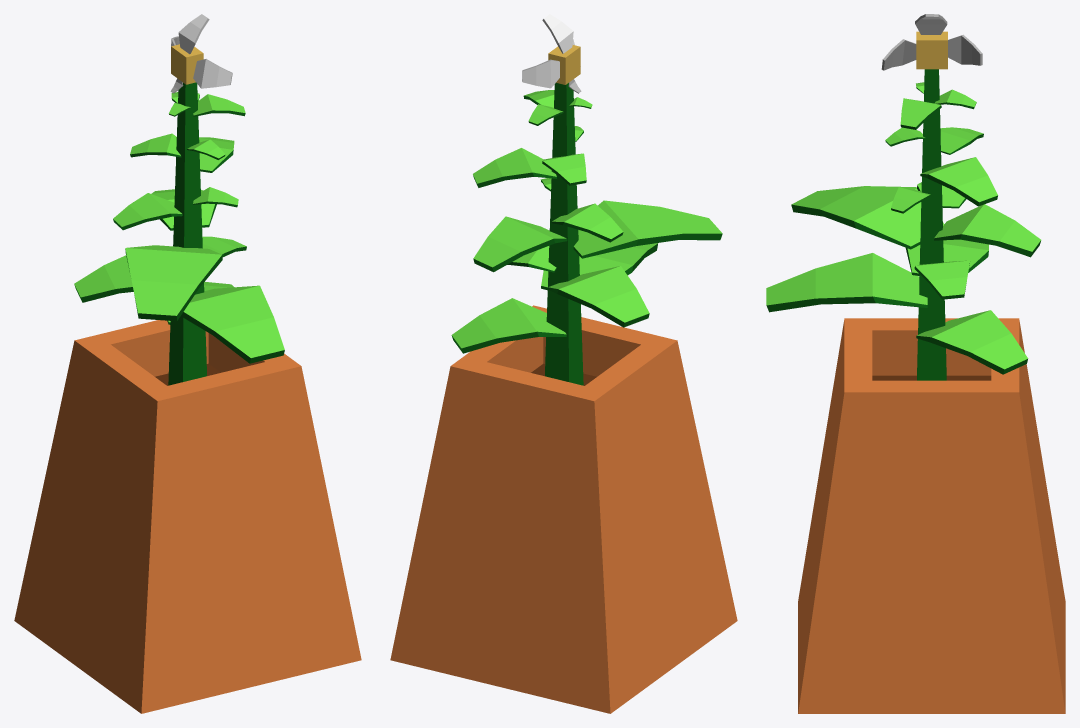
File: OF_Plant.fbx
3 renders of one model, left to right at view 1: azimuth 30°, elevation 25°; view 2: azimuth 150°, elevation 25°; view 3: azimuth 270°, elevation 25°, orthographic. The views are drawn at different scales.
Visible parts, largest first — view 1: Planta; view 2: Planta; view 3: Planta.
Boxes of the visible parts, x1,y1,x2,y2 form: Planta: (14, 14, 361, 713); Planta: (390, 14, 737, 713); Planta: (766, 14, 1065, 713).
Size of the model in its own units: 54.72 by 147 by 61.2.
